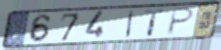4: (84, 9, 108, 42)
6: (29, 13, 54, 44)
7: (59, 13, 81, 42)
I: (124, 10, 135, 38)
P: (164, 7, 196, 37)
T: (144, 8, 167, 37)
